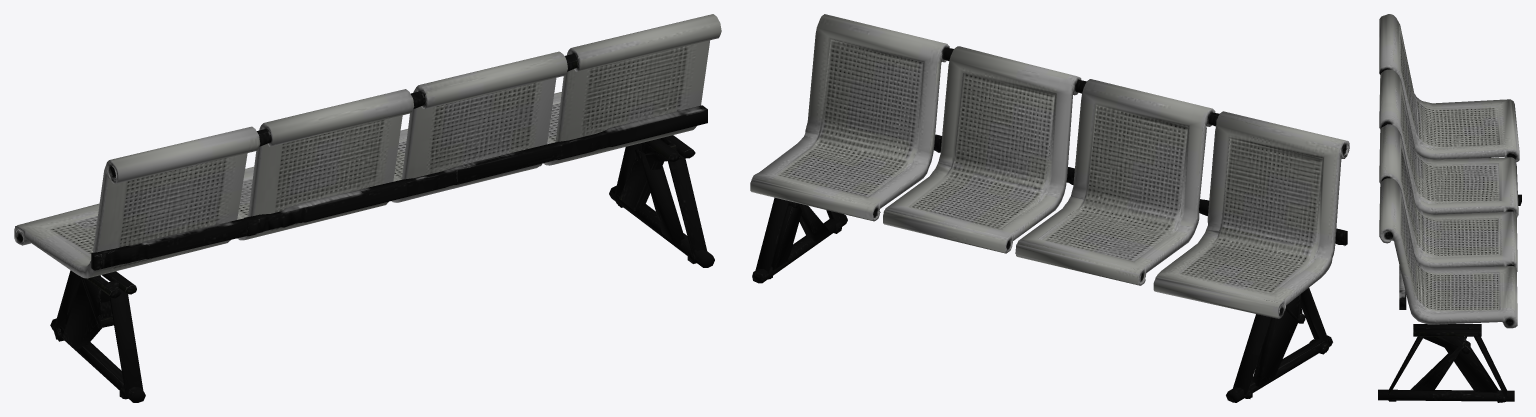
File: subway-bench.glb
The picture shows the model from 3 angles, left to right: view 1: azimuth 30°, elevation 25°; view 2: azimuth 150°, elevation 25°; view 3: azimuth 270°, elevation 25°; orthographic projection. The views are drawn at different scales.
Visible parts, largest first — view 1: tripo_node_eb6ee918-e5ef-4fa5-ba30-2dcfbc7ec3df; view 2: tripo_node_eb6ee918-e5ef-4fa5-ba30-2dcfbc7ec3df; view 3: tripo_node_eb6ee918-e5ef-4fa5-ba30-2dcfbc7ec3df.
Part boxes in pixels (box(x1,y1,x2,y2)): tripo_node_eb6ee918-e5ef-4fa5-ba30-2dcfbc7ec3df: box(14, 14, 721, 402); tripo_node_eb6ee918-e5ef-4fa5-ba30-2dcfbc7ec3df: box(750, 14, 1349, 402); tripo_node_eb6ee918-e5ef-4fa5-ba30-2dcfbc7ec3df: box(1378, 14, 1521, 402).
Size of the model in its own units: 2.23 by 0.85 by 0.6233.
1 material, 1 textured.
